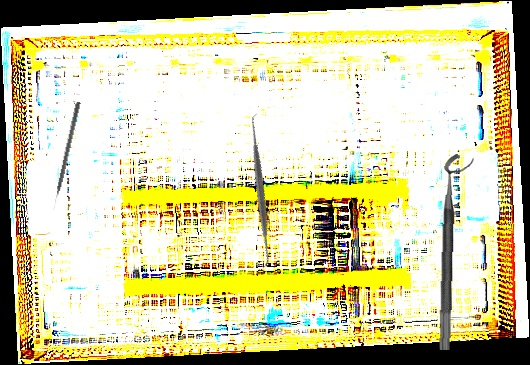Fixation Ring: (438, 154, 474, 351)
Pusher: (50, 101, 81, 211)
Spatula Surgical: (181, 112, 339, 270)
